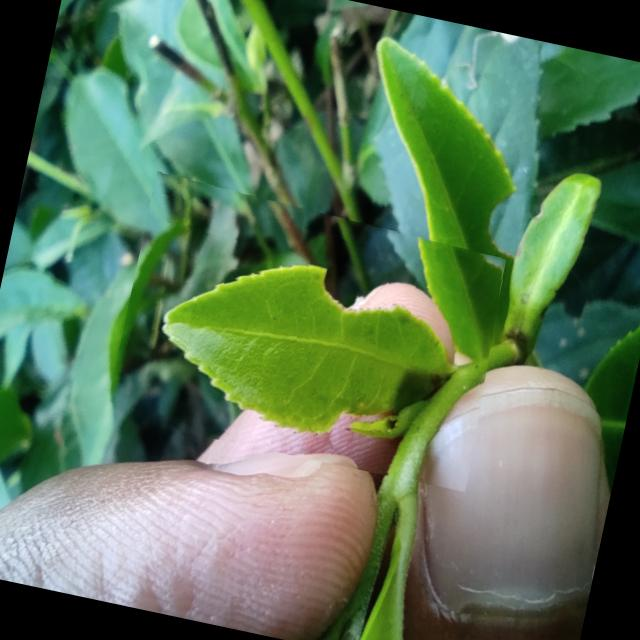Category C 4-7 days: (105, 170, 518, 491)
